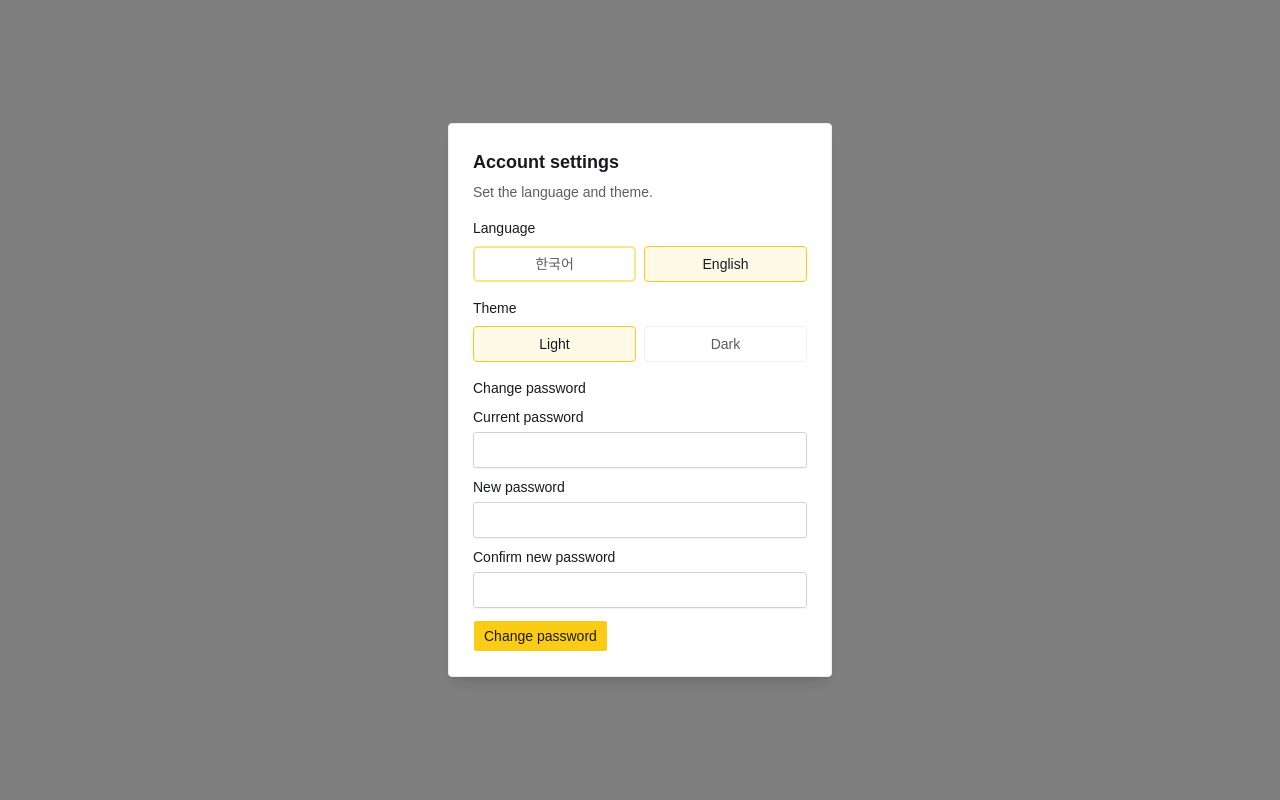
AccountSettingsDialog — password change section › submits current + new password and shows success feedback
Type "current123" into the password field with test id "account-current-password-input".
click(640, 450); type("current123")  # box [473,432,807,468]
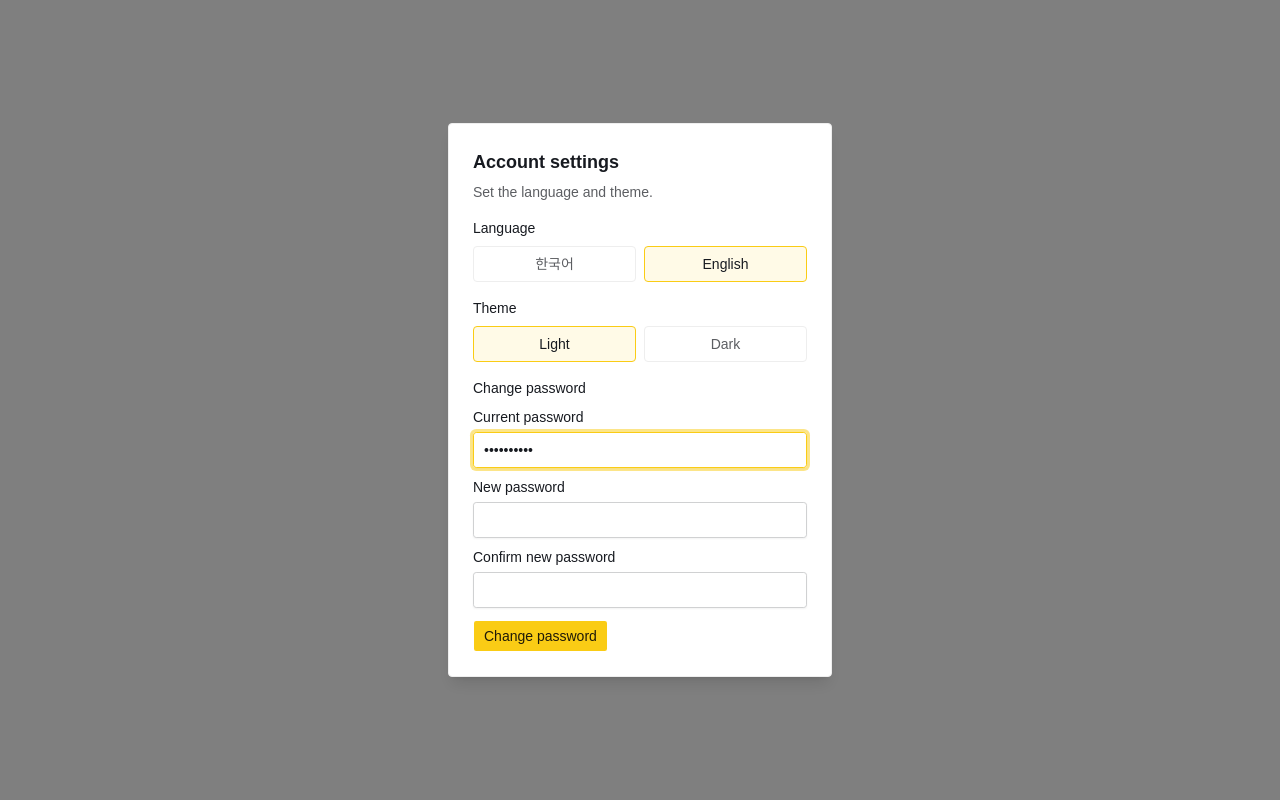
Type "newpass123" into the password field with test id "account-new-password-input".
click(640, 520); type("newpass123")  # box [473,502,807,538]
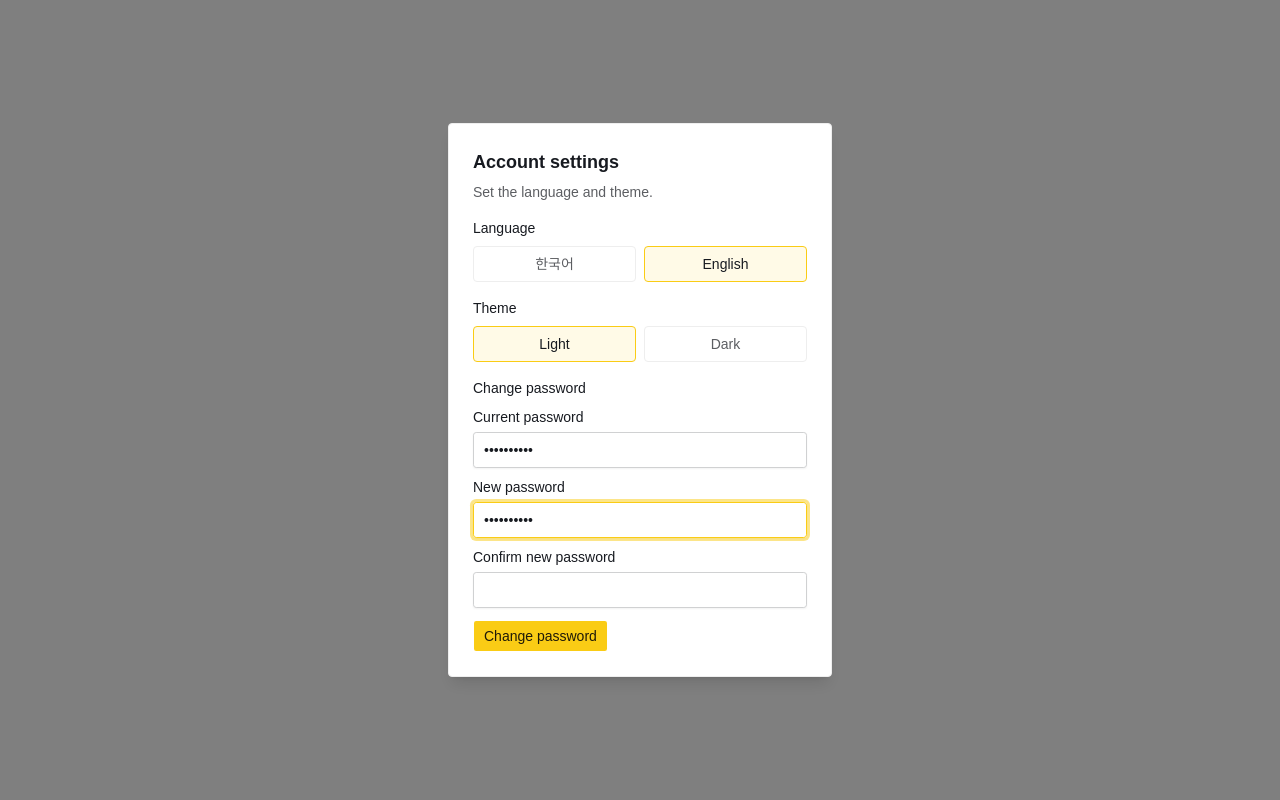
Type "newpass123" into the password field with test id "account-confirm-password-input".
click(640, 590); type("newpass123")  # box [473,572,807,608]
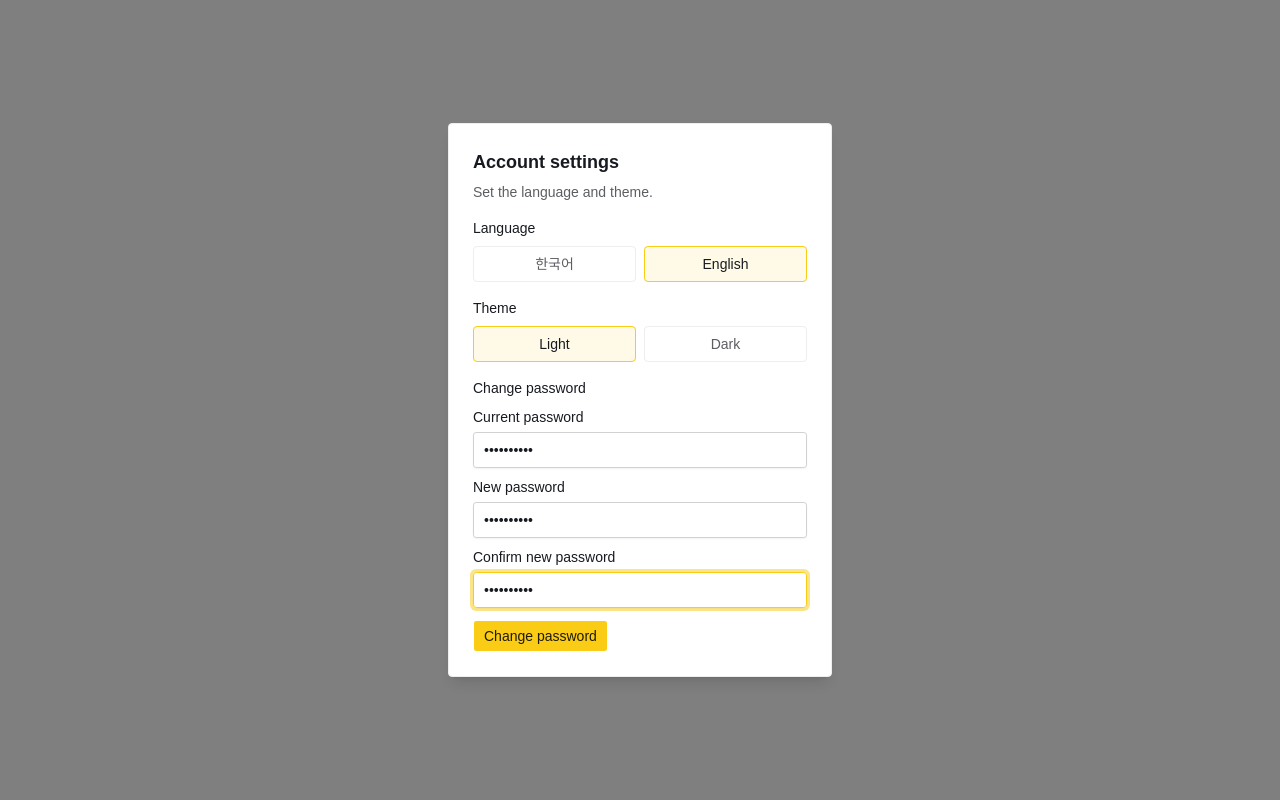
Click the button with test id "account-change-password-submit".
click(540, 636)  # box [473,620,608,652]
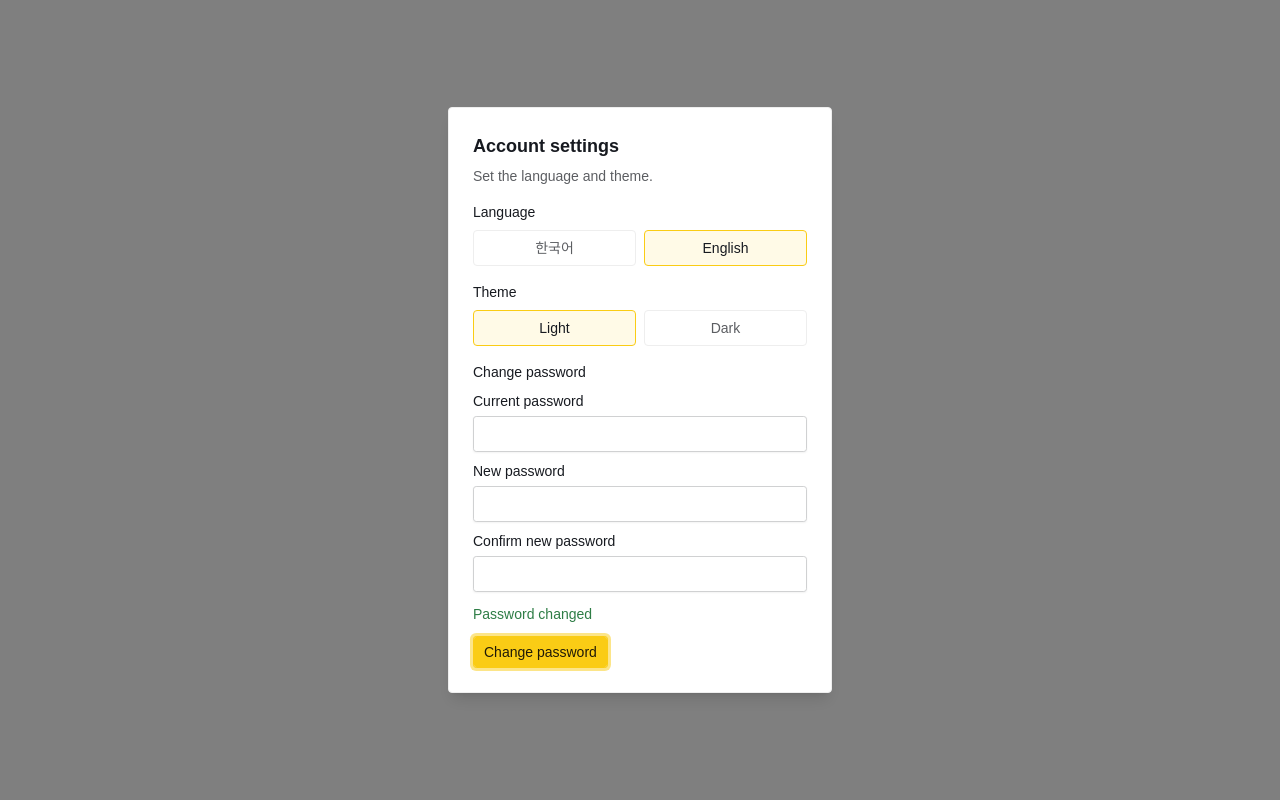
expect the text "Password changed" is shown: met, box [473,606,592,622]
